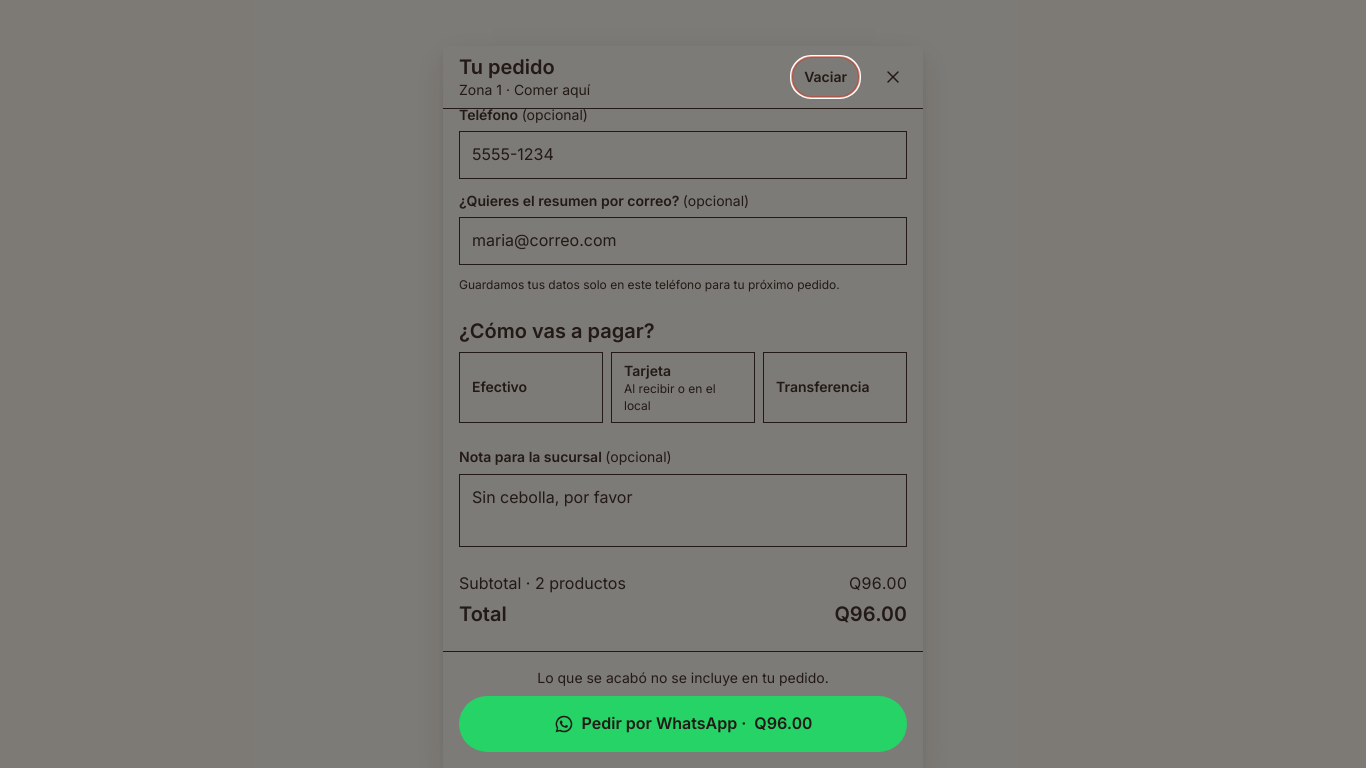
Test: <OrderSheet /> › transferencia: cuenta con Copiar
This screenshot has width=1366, height=768.
(page scrolled)
Step 1. Click the radio button labelled "Transferencia" → (835, 387), box left=763, top=352, right=907, bottom=423
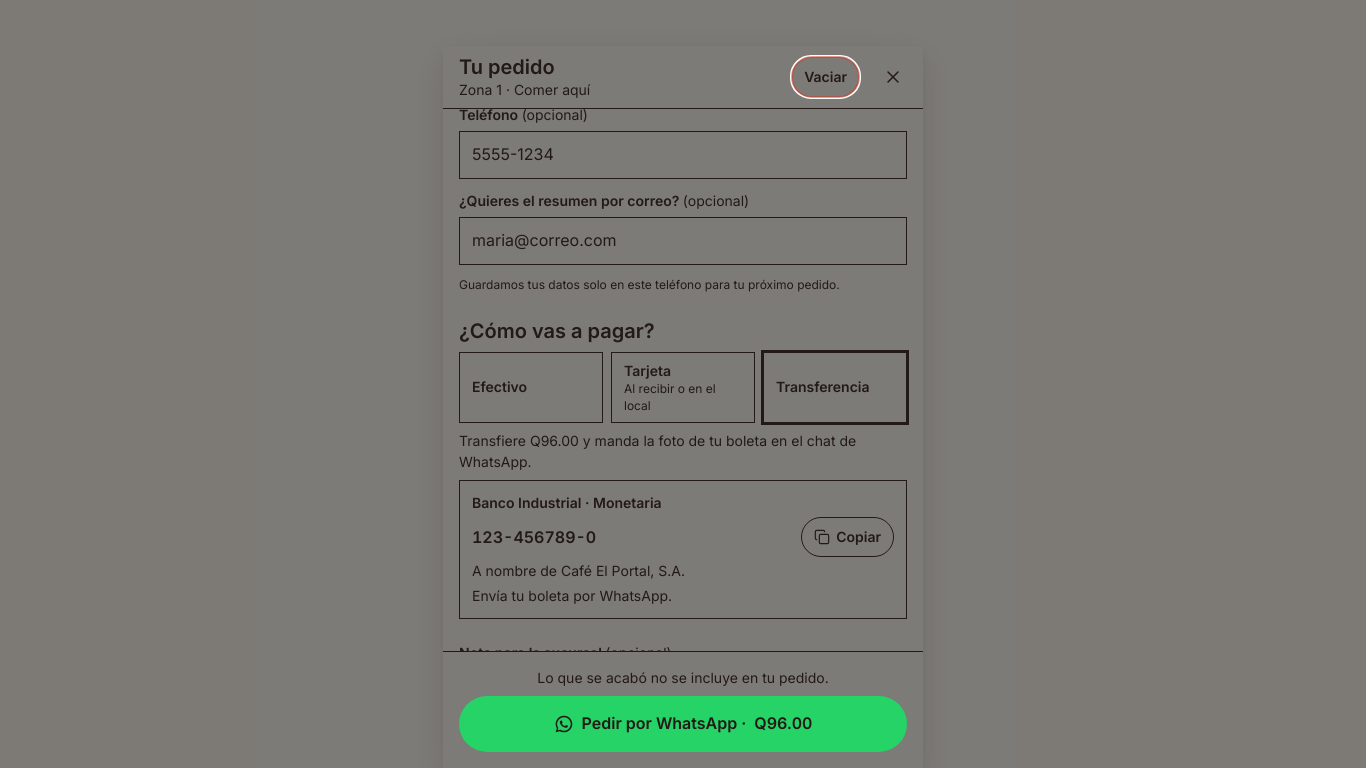
Check: the text "123-456789-0" is shown, box left=472, top=524, right=596, bottom=550
Check: the text "A nombre de Café El Portal, S.A." is shown, box left=472, top=562, right=685, bottom=579
Check: the button "Copiar" is shown, box left=801, top=517, right=894, bottom=557
